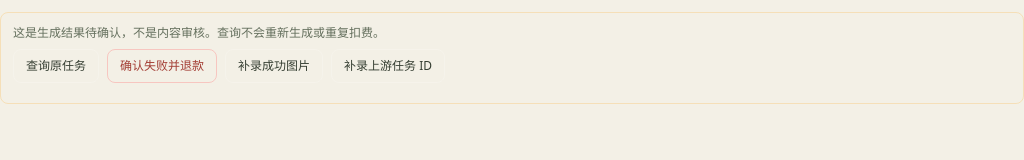
Test: offers querying and explicit refund separately, refreshes resolved data
Click the button "查询原任务": x=56, y=66 [13,49,99,83]
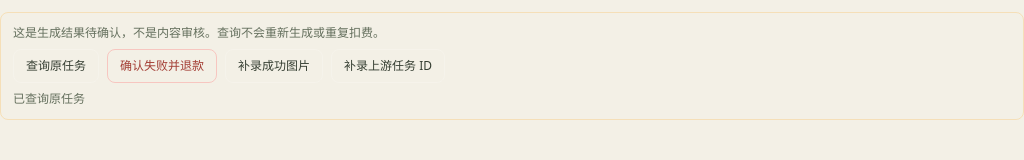
Result: the text "已查询原任务" is shown at [13,90,85,107]
Click the button "确认失败并退款": x=162, y=66 [107,49,217,83]
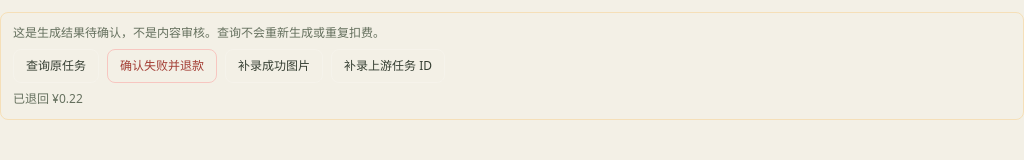
Result: the text "已退回 ¥0.22" is shown at [13,90,83,107]
